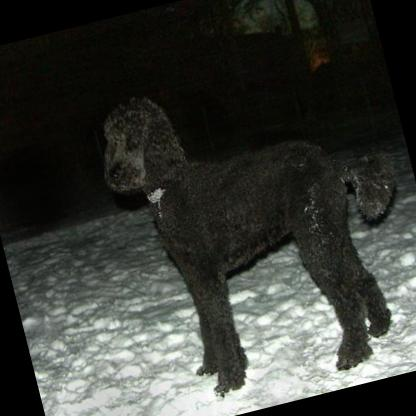standard_poodle: (86, 39, 416, 414)
